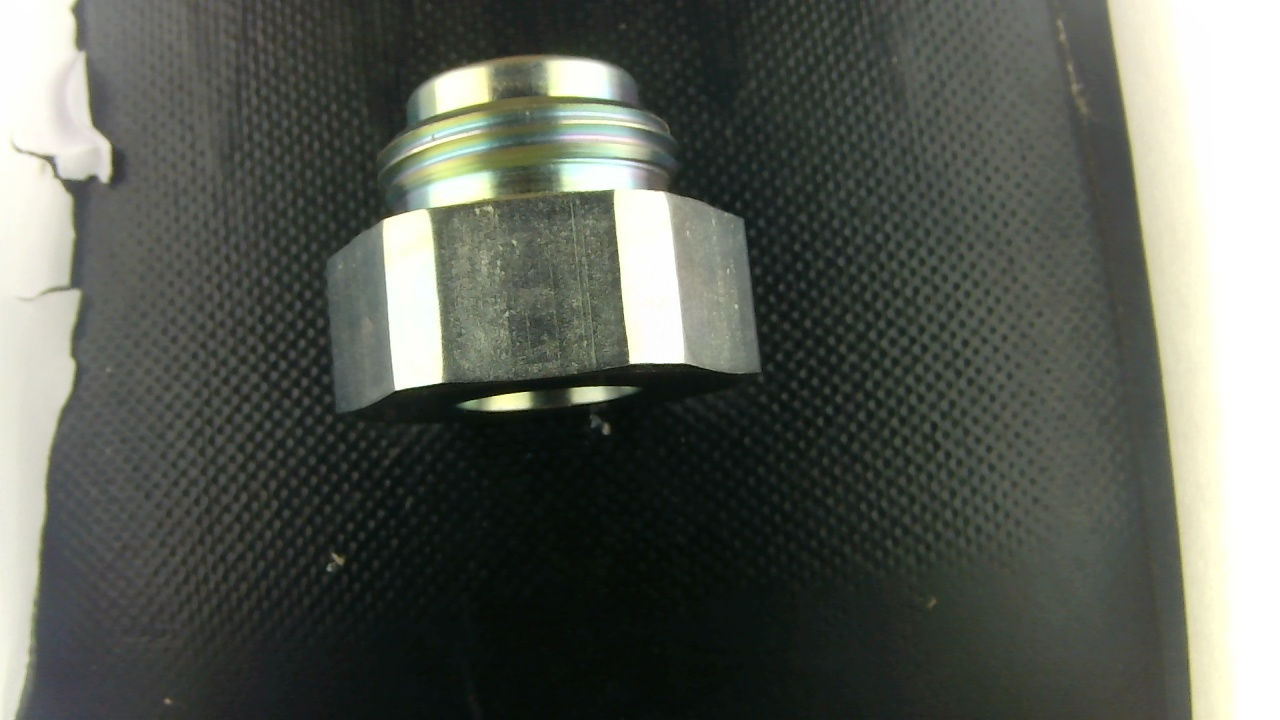Capnut_Okay: (326, 56, 760, 421)
